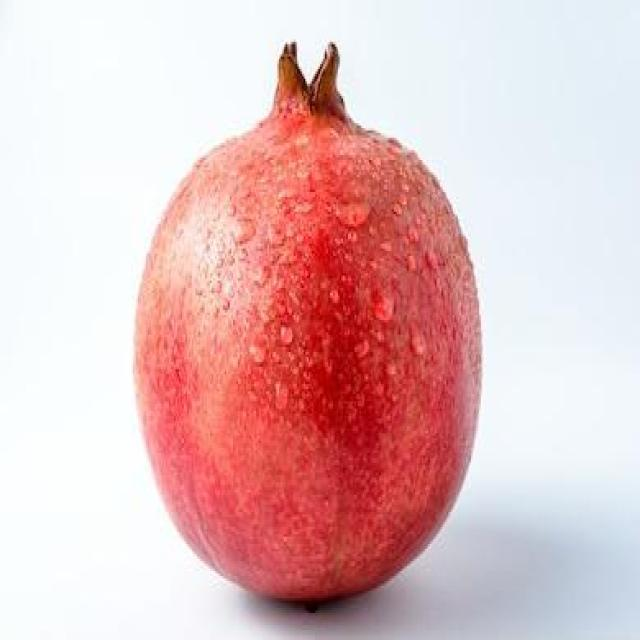Pomegranate: (131, 42, 485, 608)
